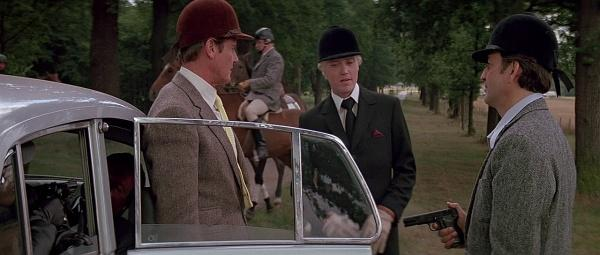Gun: (402, 207, 466, 250)
